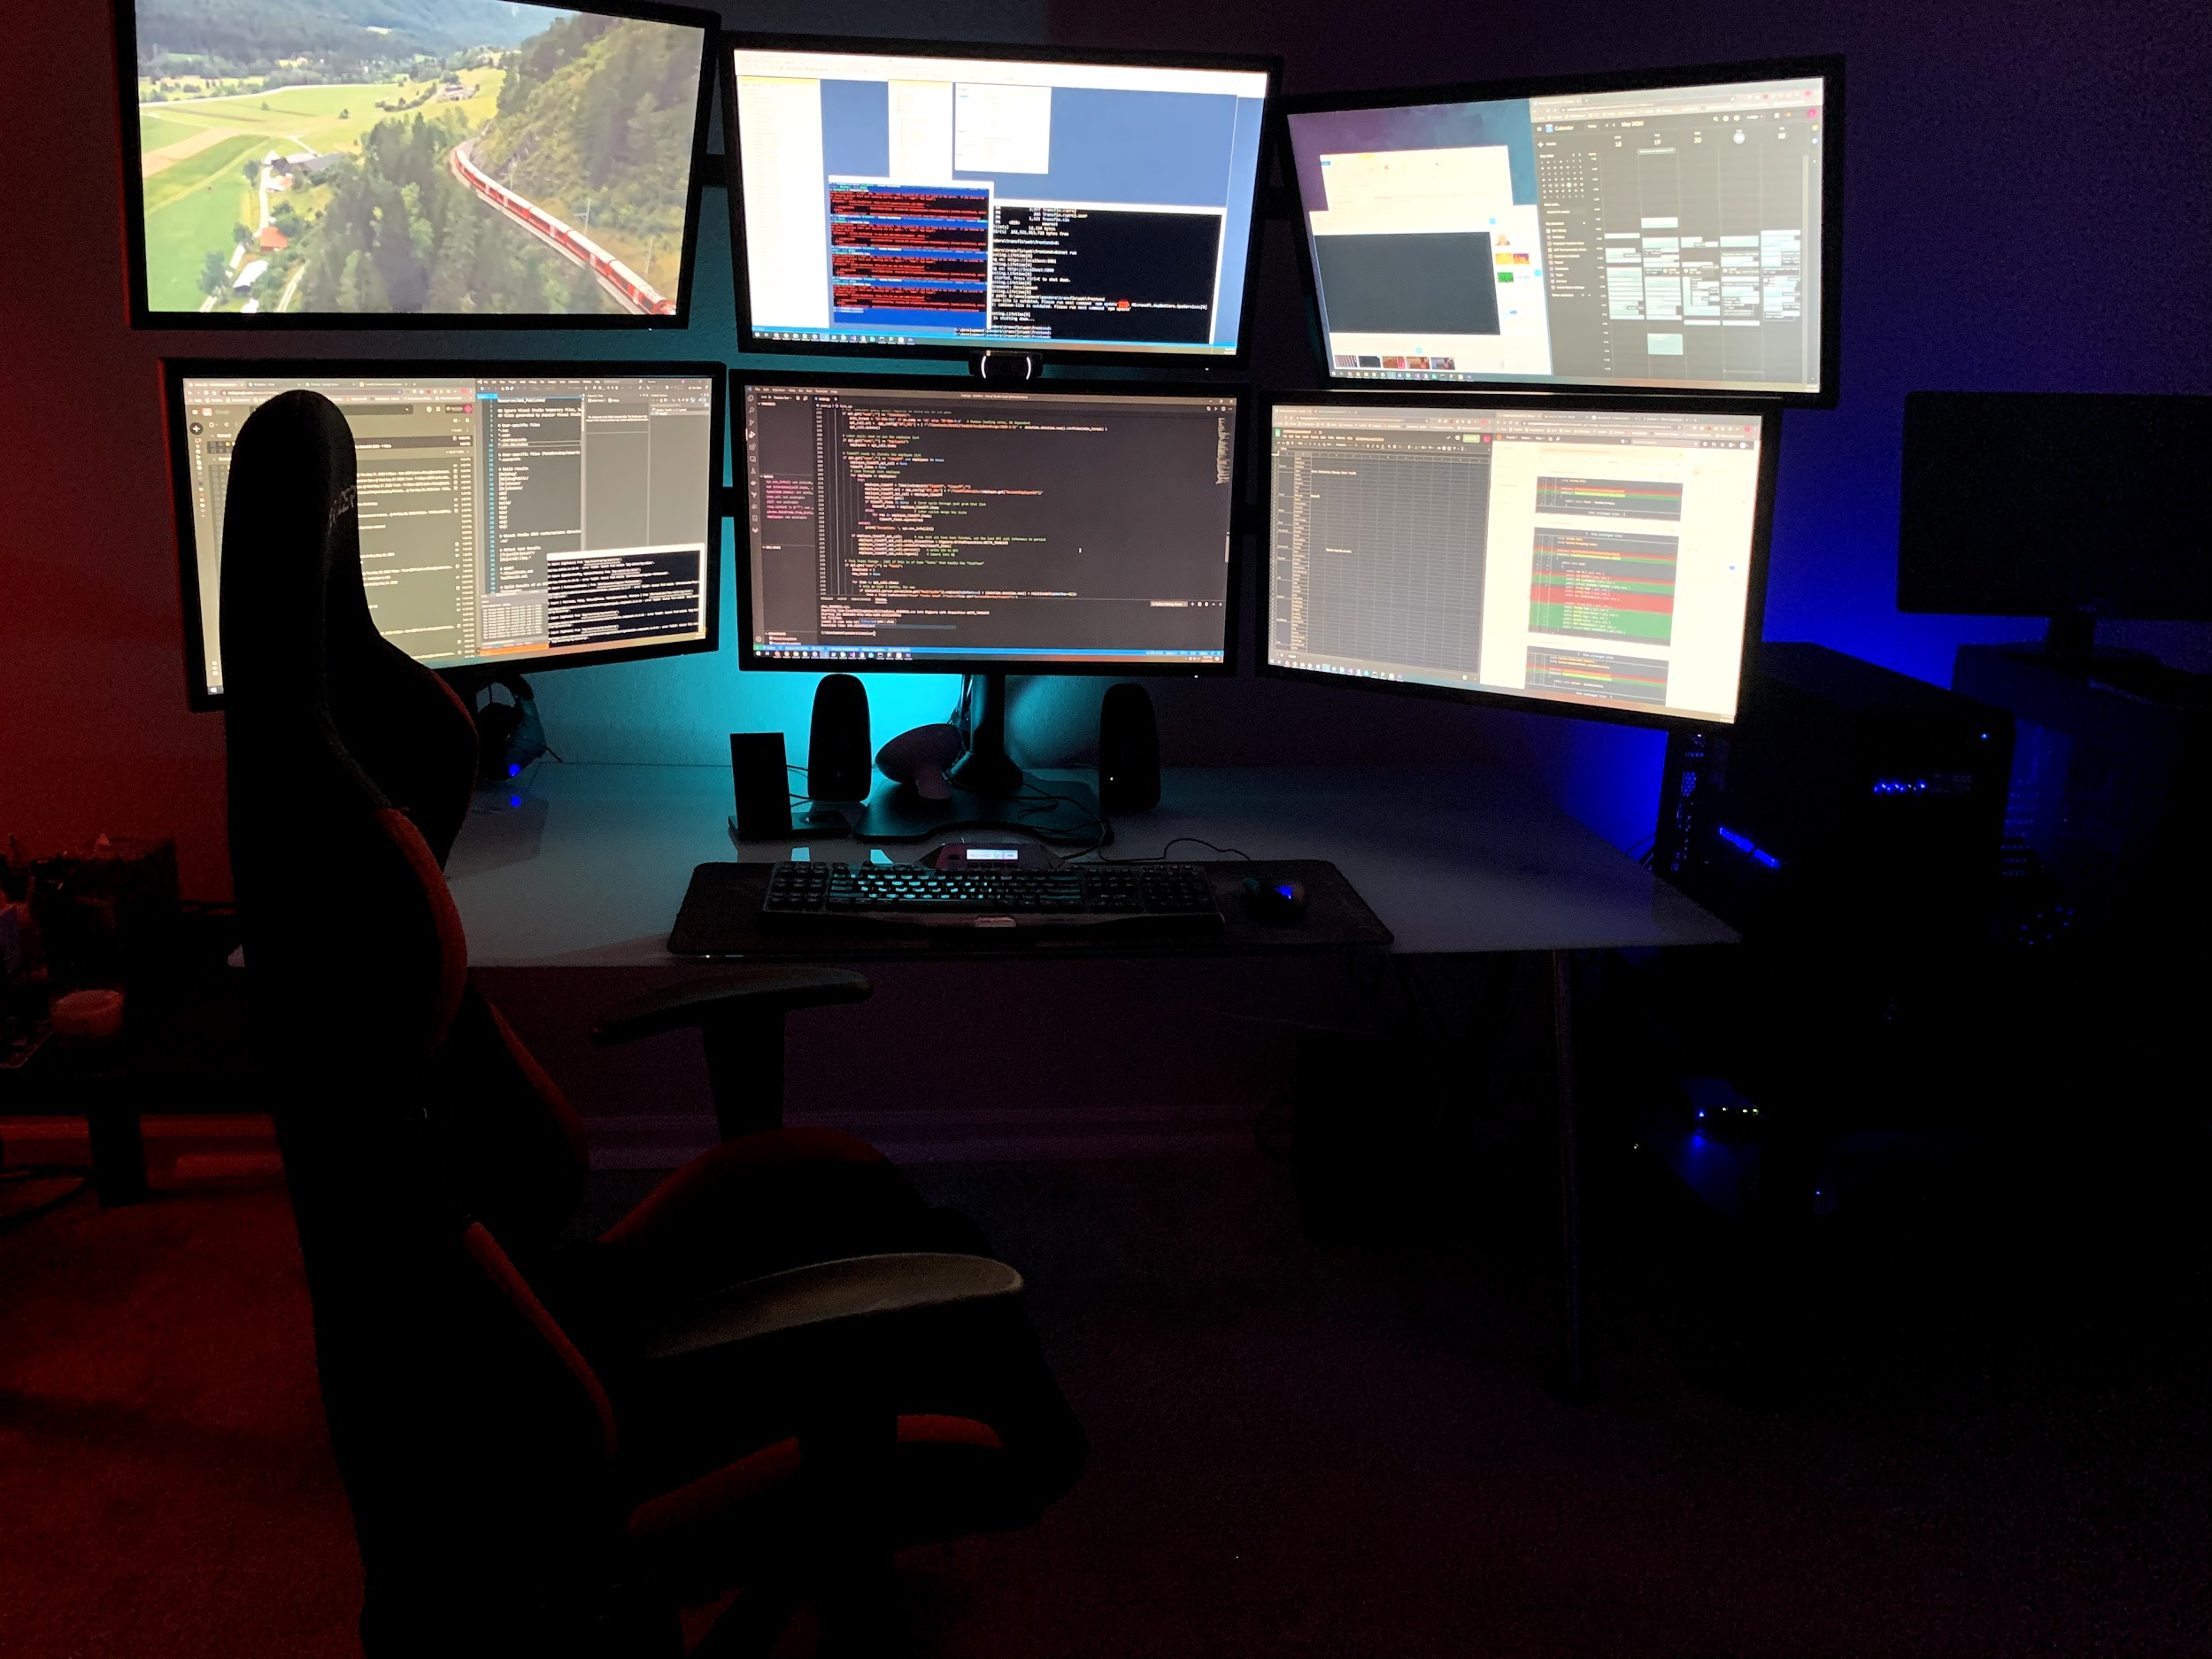Cellphone Charger (Wireless): (719, 725, 799, 849)
Chair (Gaming): (216, 390, 1158, 1659)
Desk (Generic): (165, 828, 2210, 1656)
Desktop (Windows): (1653, 627, 2017, 999)
External Speakers (Generic): (796, 674, 873, 828), (1096, 683, 1162, 812)
External Webcam: (956, 340, 1049, 390)
Headphones: (470, 681, 554, 795)
Keyboard (Generic): (761, 857, 1226, 927)
Lamp (Desk): (862, 711, 967, 810)
Monitor (Landscape): (115, 2, 725, 340), (1277, 58, 1838, 418), (162, 359, 730, 713), (1254, 383, 1782, 739), (719, 38, 1287, 364), (728, 364, 1258, 687), (1898, 385, 2212, 681)
Monitor Arm: (960, 674, 1116, 831)
Mouse (Gaming): (1240, 863, 1312, 927)
Mousepad (Gaming): (676, 845, 1406, 939)
